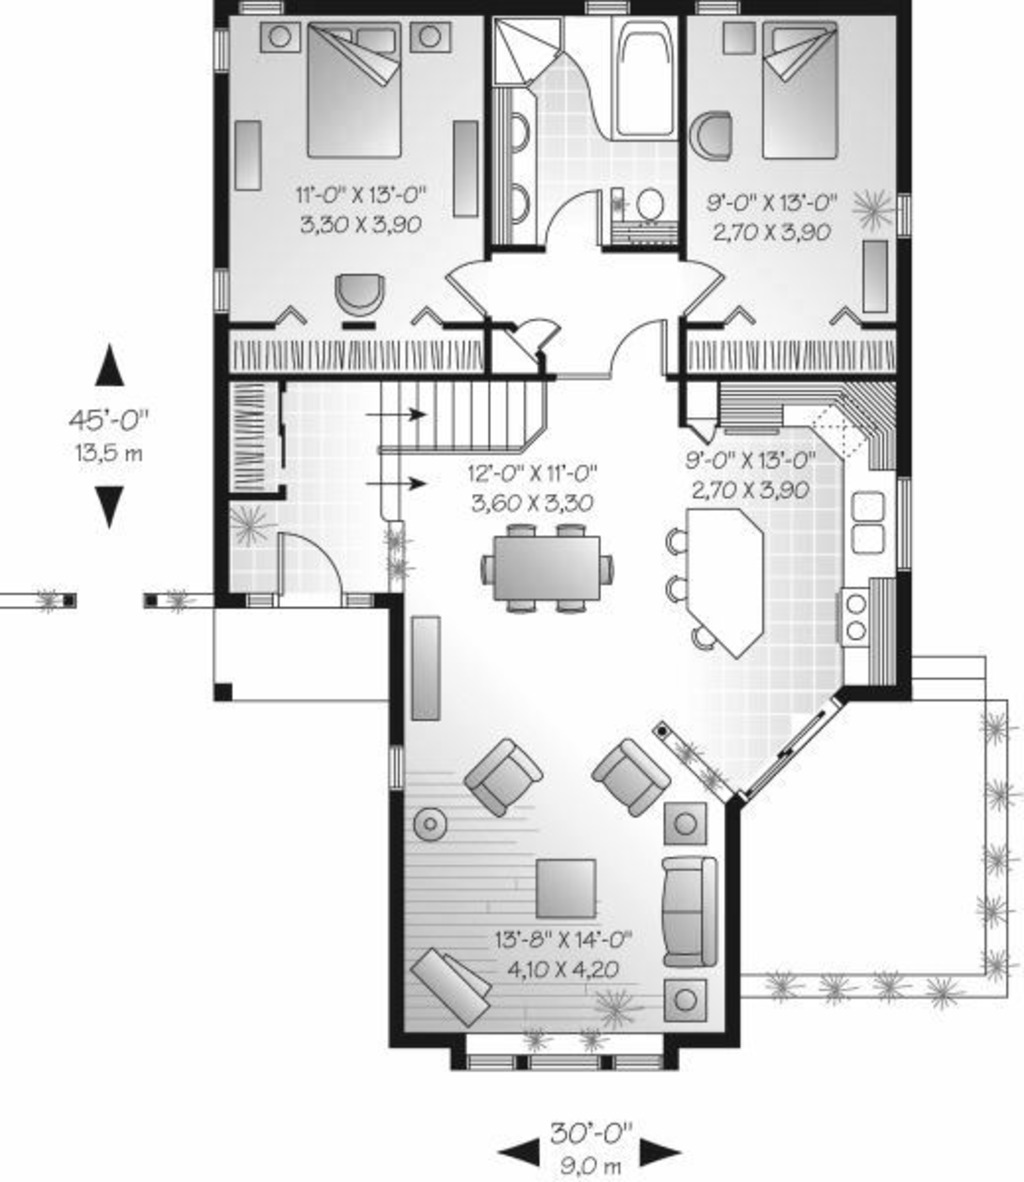bed: (303, 19, 410, 170), (752, 17, 850, 163)
dining_table: (467, 514, 621, 623)
door: (274, 524, 356, 610), (536, 188, 616, 263), (610, 314, 670, 384), (447, 257, 503, 315), (674, 257, 725, 319)
kitchen_bar: (658, 504, 768, 674)
large_sink: (621, 184, 683, 243)
large_sofa: (650, 852, 727, 972)
small_sink: (498, 106, 536, 246)
small_sofa: (463, 730, 547, 830), (578, 741, 668, 826)
stairs: (358, 379, 576, 517)
tub: (610, 10, 681, 134)
twin_sink: (838, 484, 888, 564)
window: (458, 1044, 667, 1079), (888, 474, 927, 579), (879, 168, 923, 255), (199, 17, 241, 81), (385, 741, 407, 801)
